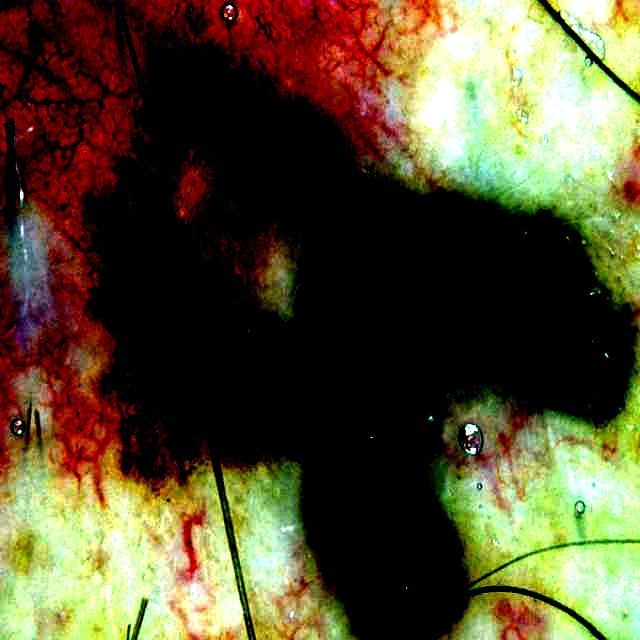MEL: (155, 46, 624, 635), (85, 165, 204, 479)
